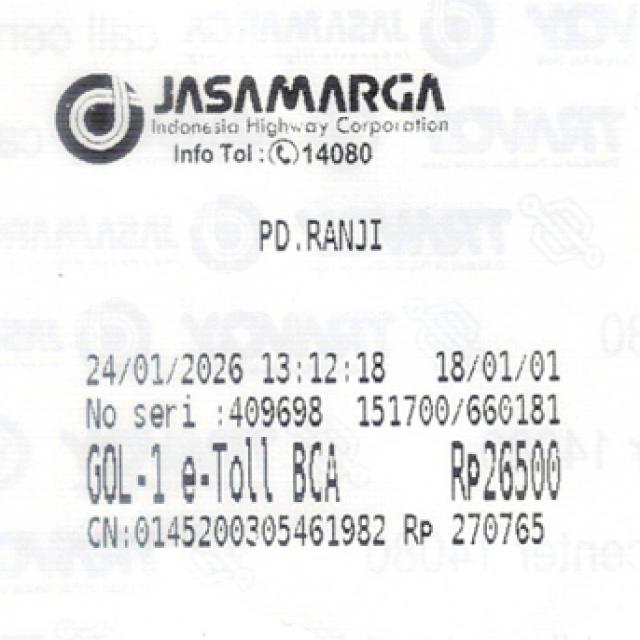date: (77, 345, 389, 389)
store: (136, 71, 464, 142)
total: (436, 438, 580, 508)
